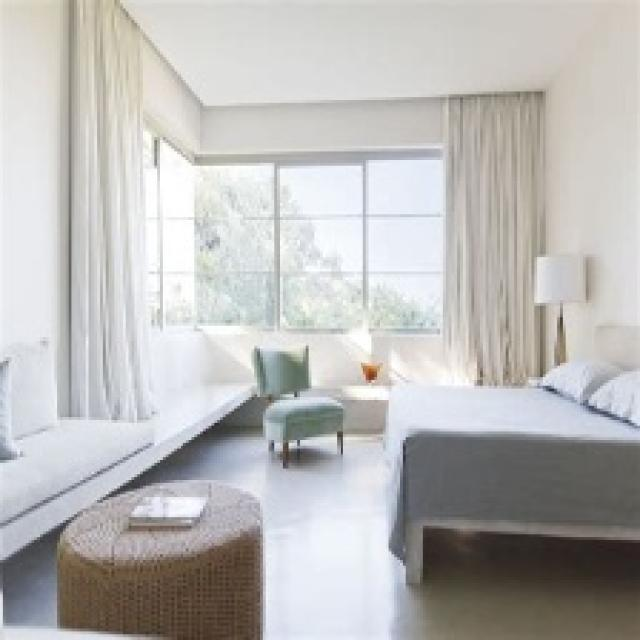Bed: (380, 323, 637, 591)
